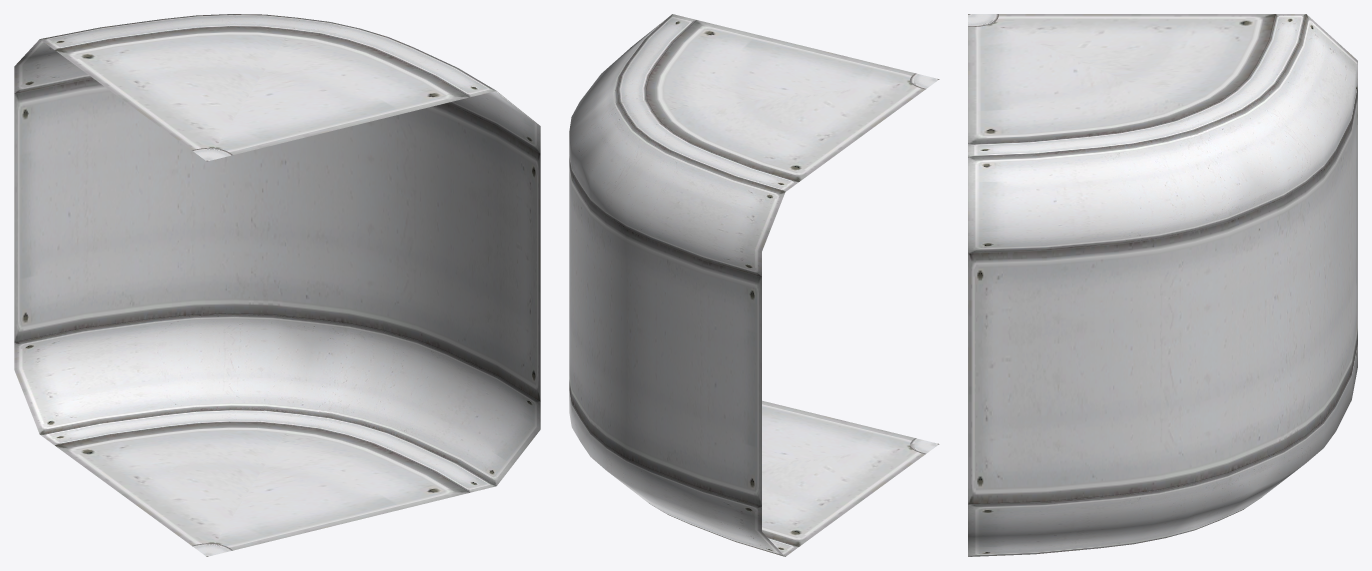
File: CeilingBrace_Cornercappedfull.FBX
The picture shows the model from 3 angles, left to right: view 1: azimuth 30°, elevation 25°; view 2: azimuth 150°, elevation 25°; view 3: azimuth 270°, elevation 25°; orthographic projection. The views are drawn at different scales.
Parts seen in each view (by area): view 1: CeilingBrace_Cornercappedfull; view 2: CeilingBrace_Cornercappedfull; view 3: CeilingBrace_Cornercappedfull.
Part boxes in pixels (x1,y1,x2,y2): CeilingBrace_Cornercappedfull: (14,14,540,556); CeilingBrace_Cornercappedfull: (569,14,939,556); CeilingBrace_Cornercappedfull: (968,14,1357,556).
Size of the model in its own units: 1.15 by 1.3 by 1.15.
